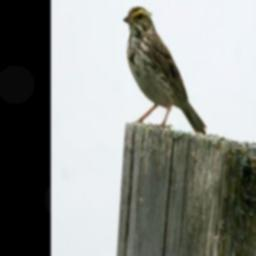Sparrow: (122, 5, 207, 138)
